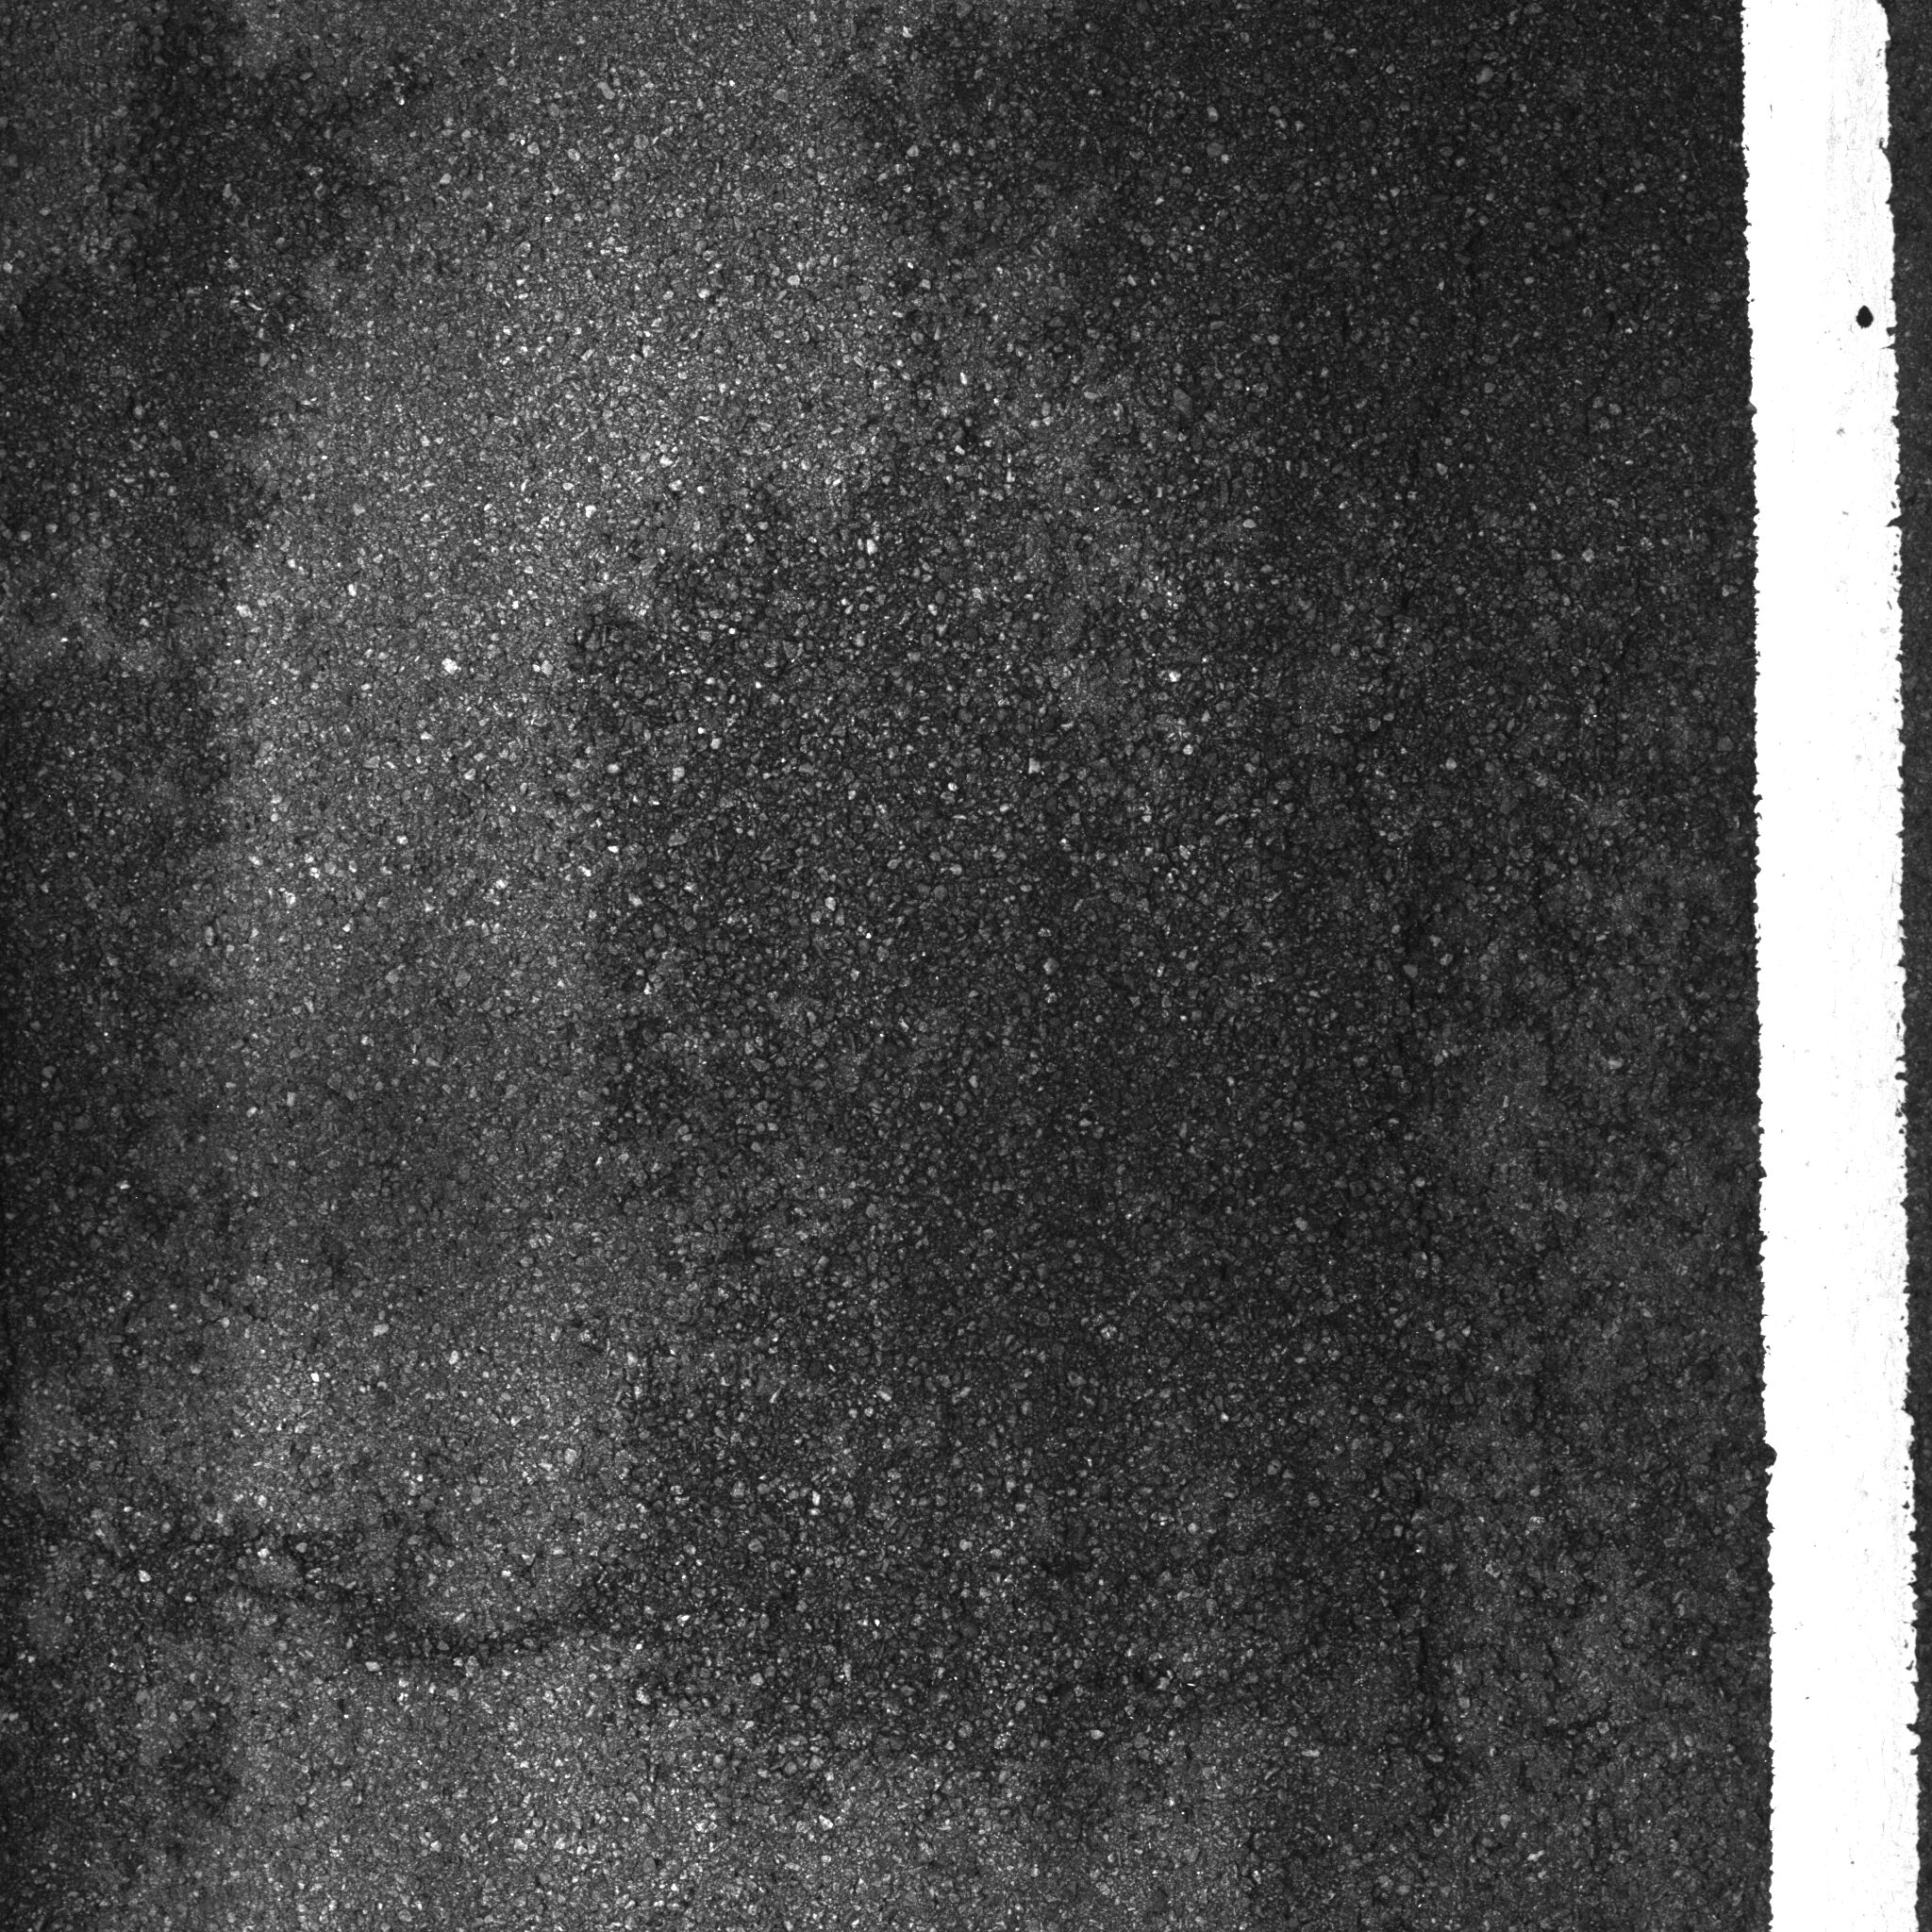transeverse: (1329, 186, 1530, 1822)
